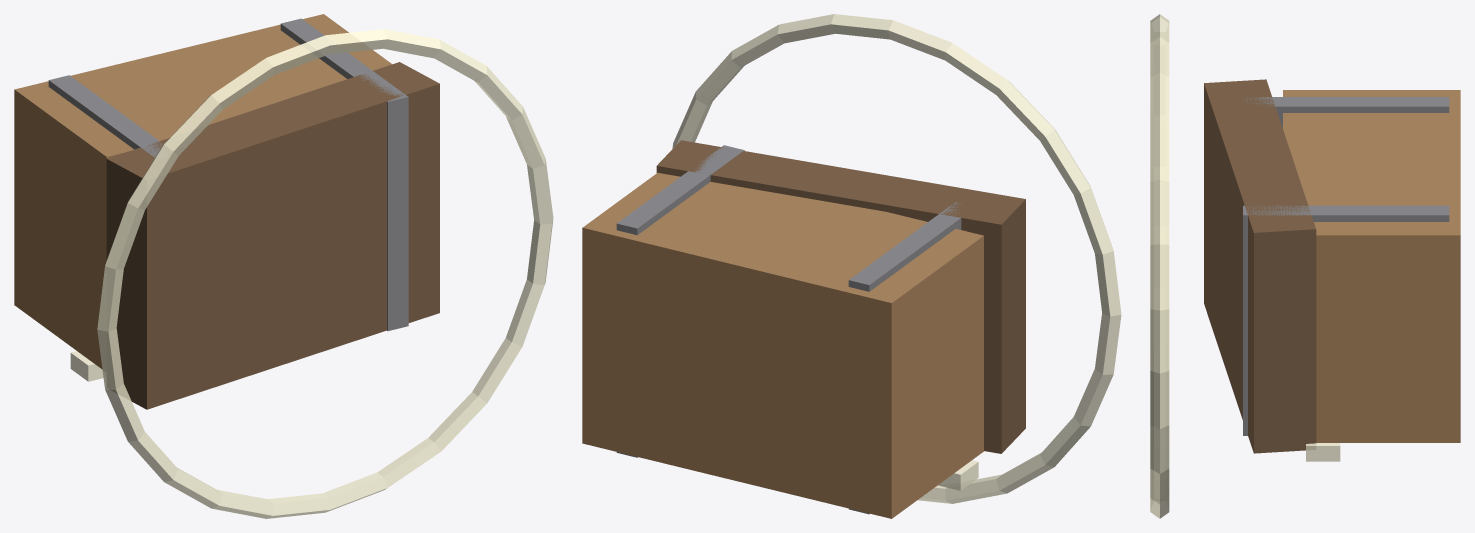
Rendered from loot_chest_boss_reward.glb.
The picture shows the model from 3 angles, left to right: view 1: azimuth 30°, elevation 25°; view 2: azimuth 150°, elevation 25°; view 3: azimuth 270°, elevation 25°; orthographic projection. The views are drawn at different scales.
Visible parts, largest first — view 1: lid, chest_body, boss_reward_halo, side_band_r, side_band_l, front_band; view 2: chest_body, lid, boss_reward_halo, side_band_r, side_band_l, front_band; view 3: chest_body, lid, boss_reward_halo, side_band_r, side_band_l, front_band.
Boxes of the visible parts, x1,y1,x2,y2 form: lid: (106,62,439,409); chest_body: (14,14,391,369); boss_reward_halo: (97,29,553,518); side_band_r: (280,18,408,330); side_band_l: (48,75,163,157); front_band: (70,351,103,381); chest_body: (582,172,983,518); lid: (656,140,1025,453); boss_reward_halo: (672,14,1121,503); side_band_r: (616,145,744,457); side_band_l: (848,202,961,514); front_band: (938,460,978,490); chest_body: (1283,90,1460,442); lid: (1204,79,1316,453); boss_reward_halo: (1150,14,1169,518); side_band_r: (1243,205,1449,435); side_band_l: (1246,97,1449,128); front_band: (1306,443,1340,461).
Size of the model in its own units: 1.77 by 1.77 by 1.08.
